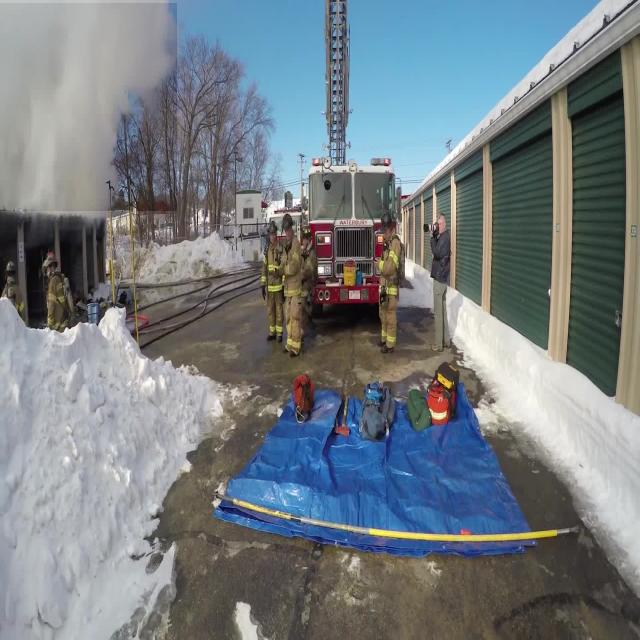Smoke: (0, 3, 177, 211)
